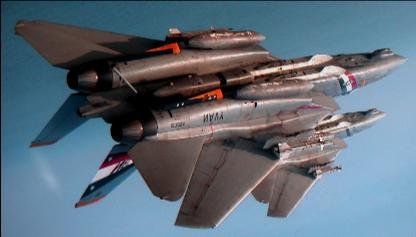EF2000: (12, 19, 410, 229), (250, 108, 388, 218)
